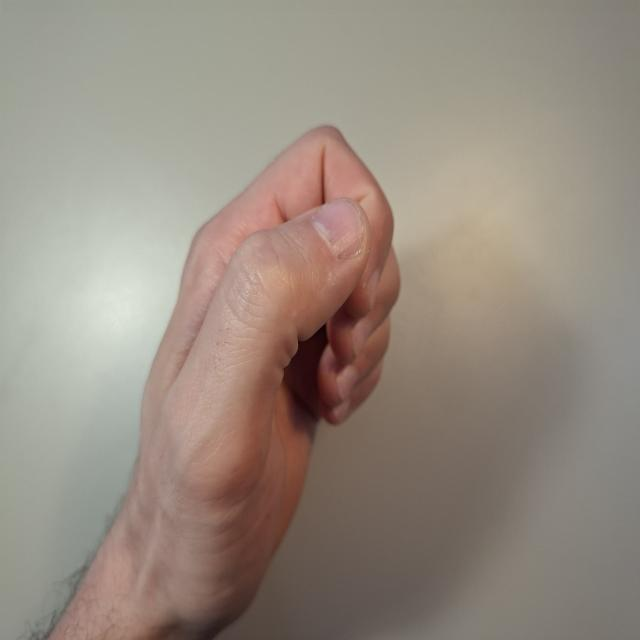glove_off: (134, 120, 404, 630)
